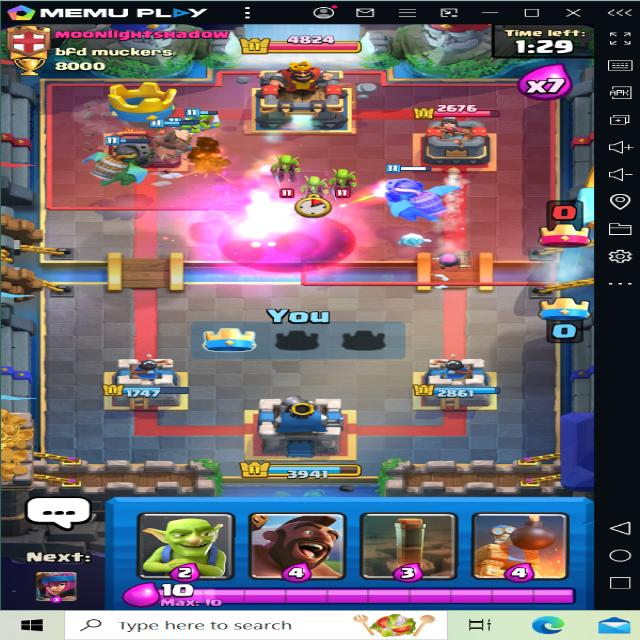goblin: (264, 146, 306, 176), (326, 163, 363, 197), (298, 172, 326, 198)
void: (203, 206, 368, 278)
